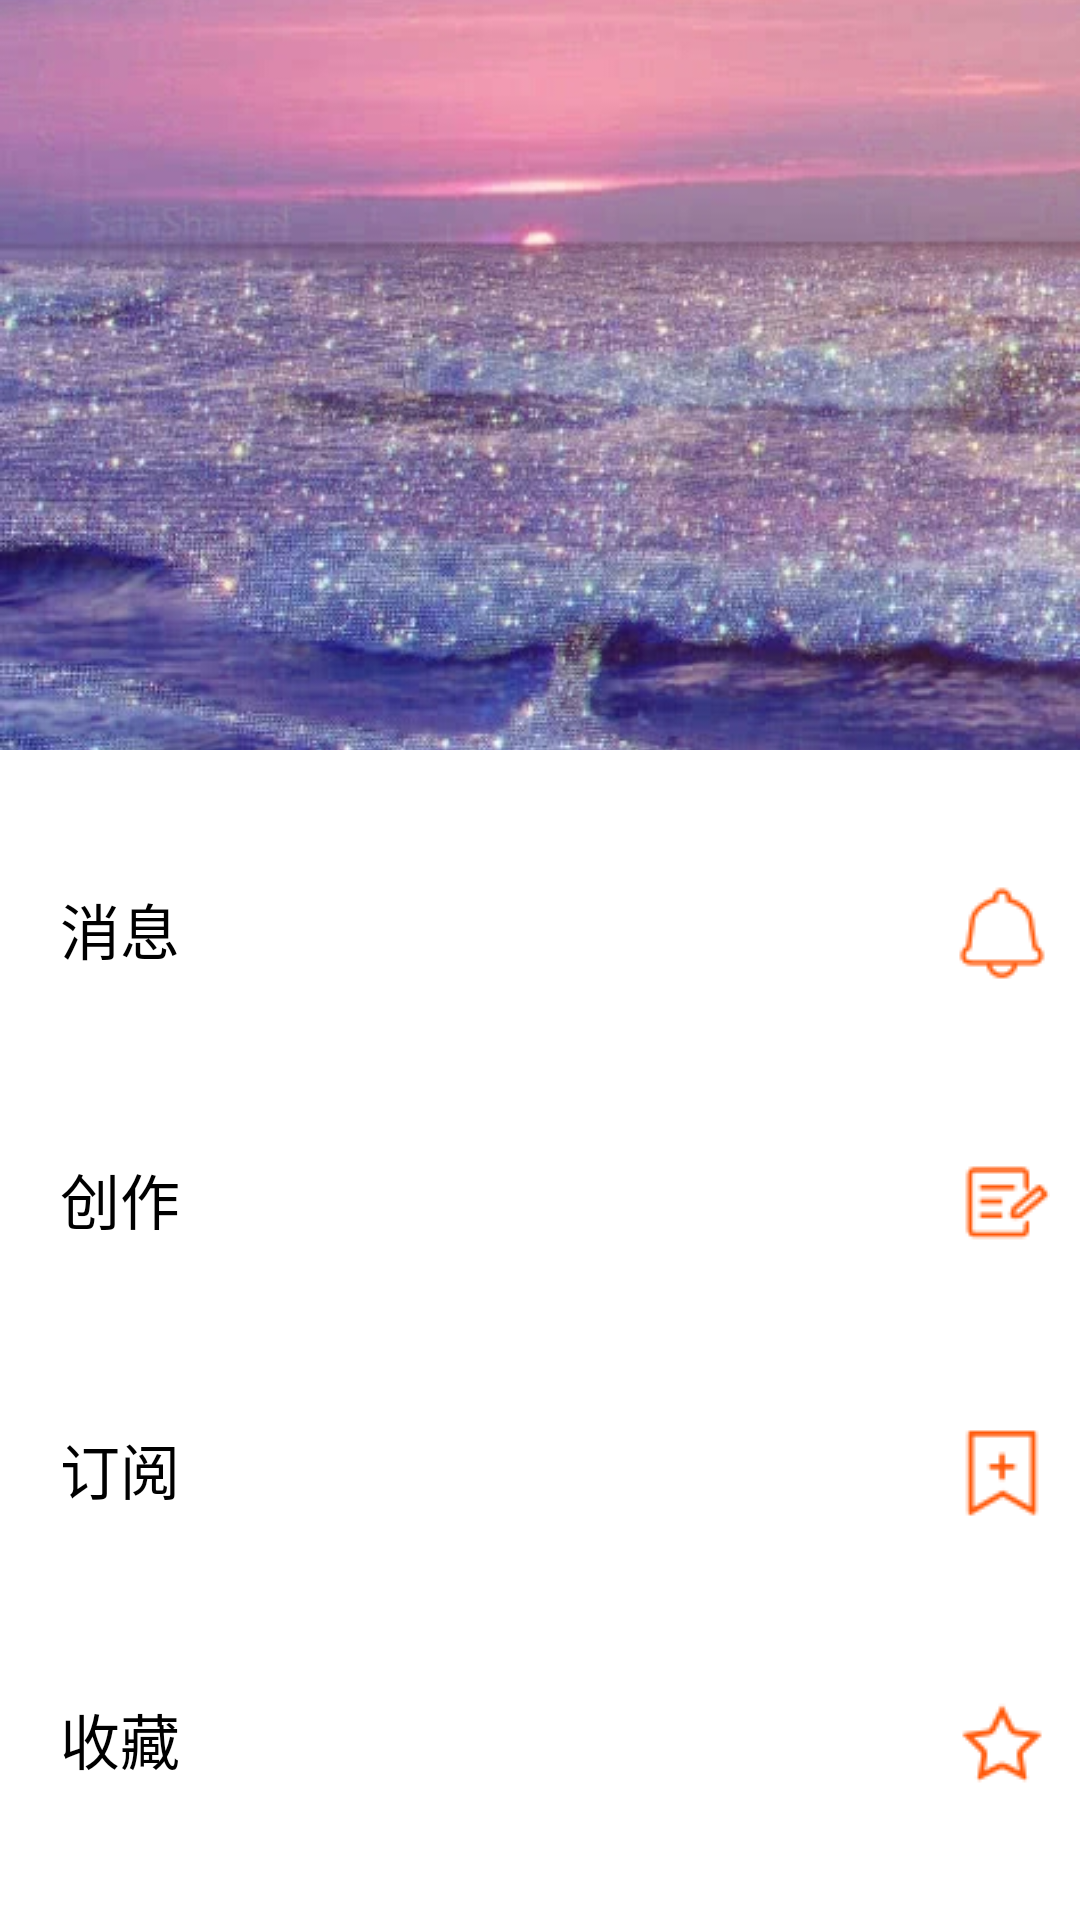

Icons on this 1080px×1920px Android screen, each with its box as (x1, y1, x2, y2):
dingyue: (966, 1430, 1038, 1516)
shoucang: (962, 1705, 1042, 1782)
shuxie: (965, 1166, 1050, 1239)
xiaoxi: (959, 887, 1045, 979)
